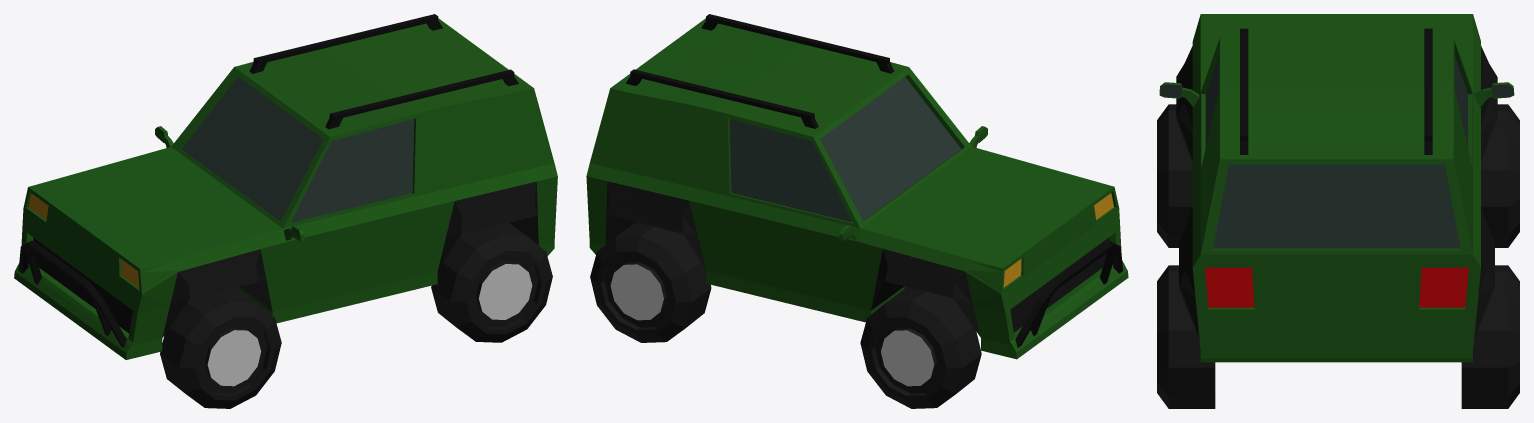
Rendered from car.obj.
3 renders of one model, left to right at view 1: azimuth 30°, elevation 25°; view 2: azimuth 150°, elevation 25°; view 3: azimuth 270°, elevation 25°, orthographic. The views are drawn at different scales.
Parts seen in each view (by area): view 1: body_Cube, wheelfl_Cylinder.030, wheelbl_Cylinder.001, Cube.004, roofrackl_Cube.002, roofrackr_Cube.003; view 2: body_Cube, wheelfr_Cylinder.002, wheelbr_Cylinder.003, Cube.004, roofrackr_Cube.003, roofrackl_Cube.002; view 3: body_Cube, wheelbr_Cylinder.003, wheelbl_Cylinder.001, wheelfr_Cylinder.002, wheelfl_Cylinder.030, roofrackr_Cube.003, roofrackl_Cube.002.
Part boxes in pixels (<box>): body_Cube: <box>14,18,557,359</box>; wheelfl_Cylinder.030: <box>160,288,281,408</box>; wheelbl_Cylinder.001: <box>431,222,552,342</box>; Cube.004: <box>18,241,126,347</box>; roofrackl_Cube.002: <box>325,69,518,129</box>; roofrackr_Cube.003: <box>249,14,442,73</box>; body_Cube: <box>586,18,1128,359</box>; wheelfr_Cylinder.002: <box>860,288,981,408</box>; wheelbr_Cylinder.003: <box>590,222,711,342</box>; Cube.004: <box>1015,241,1122,347</box>; roofrackr_Cube.003: <box>626,69,818,128</box>; roofrackl_Cube.002: <box>701,14,893,73</box>; body_Cube: <box>1159,14,1514,362</box>; wheelbr_Cylinder.003: <box>1461,265,1519,408</box>; wheelbl_Cylinder.001: <box>1157,265,1215,408</box>; wheelfr_Cylinder.002: <box>1481,104,1519,247</box>; wheelfl_Cylinder.030: <box>1157,104,1192,247</box>; roofrackr_Cube.003: <box>1424,28,1432,154</box>; roofrackl_Cube.002: <box>1240,28,1248,154</box>.
Bounding box in the file's own units: 5.12 × 2.64 × 2.99.
